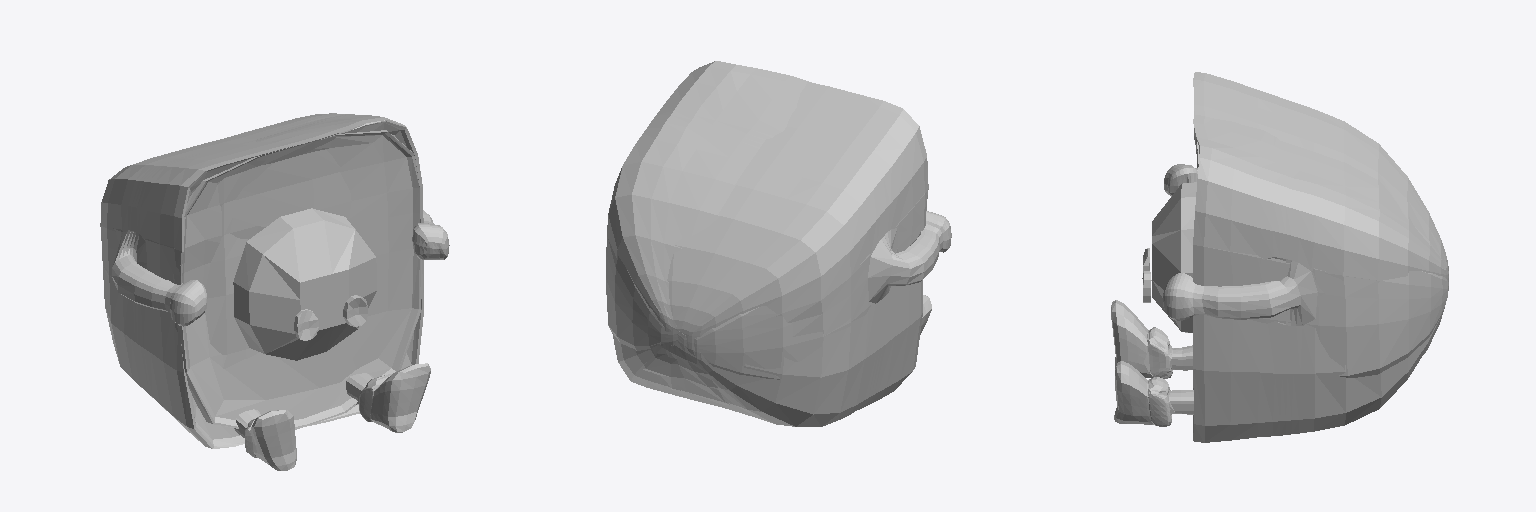
File: Pal_000020.obj
The picture shows the model from 3 angles: view 1: azimuth 30°, elevation 25°; view 2: azimuth 150°, elevation 25°; view 3: azimuth 270°, elevation 25°; orthographic projection.
Visible parts, largest first — view 1: Cuerpo_de_aguacate_3.001_Cube.002, Hueso_Cubo.003, Ojos_Cubo.002; view 2: Cuerpo_de_aguacate_3.001_Cube.002; view 3: Cuerpo_de_aguacate_3.001_Cube.002, Hueso_Cubo.003.
Part boxes in pixels (left/top/right/bottom): Cuerpo_de_aguacate_3.001_Cube.002: left=100, top=113, right=449, bottom=470; Hueso_Cubo.003: left=233, top=208, right=376, bottom=360; Ojos_Cubo.002: left=294, top=295, right=367, bottom=340; Cuerpo_de_aguacate_3.001_Cube.002: left=606, top=61, right=951, bottom=426; Cuerpo_de_aguacate_3.001_Cube.002: left=1111, top=72, right=1448, bottom=442; Hueso_Cubo.003: left=1152, top=182, right=1196, bottom=332.
Size of the model in its own units: 1.01 by 0.9516 by 1.01.